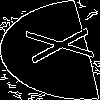X: (25, 25, 100, 64)
